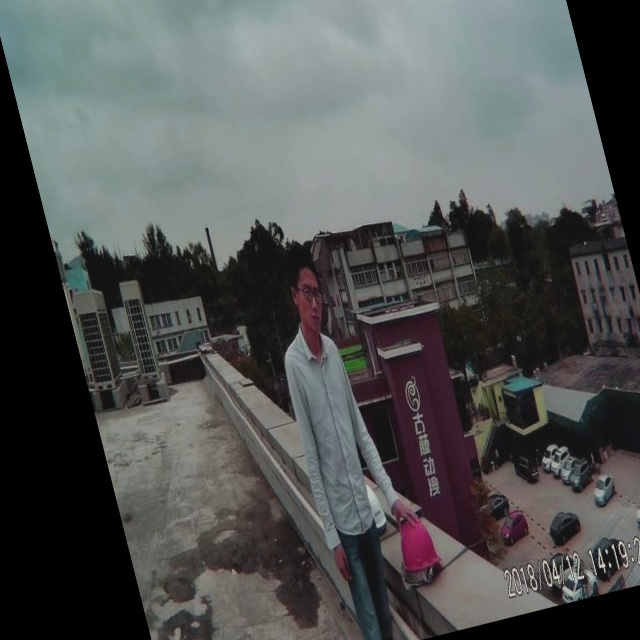Sin_Chaleco: (276, 325, 384, 524)
